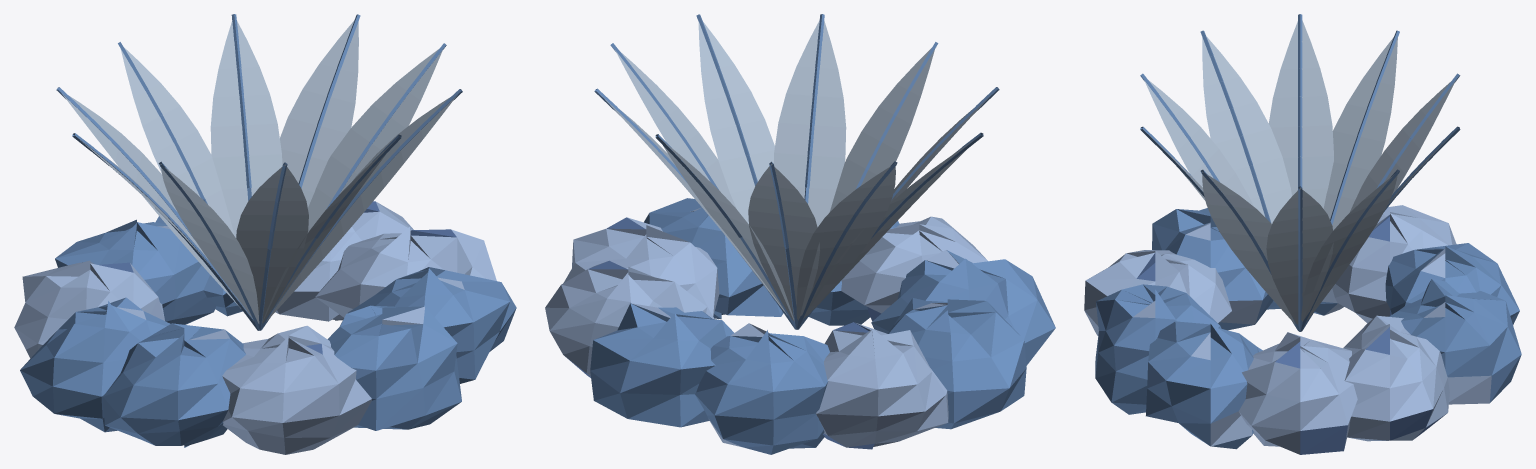
File: indigo.glb
3 renders of one model, left to right at view 1: azimuth 30°, elevation 25°; view 2: azimuth 150°, elevation 25°; view 3: azimuth 270°, elevation 25°, orthographic. The views are drawn at different scales.
Visible parts, largest first — view 1: indigo; view 2: indigo; view 3: indigo.
Part boxes in pixels (box(x1,y1,x2,y2)): indigo: box(14, 14, 516, 454); indigo: box(545, 14, 1055, 454); indigo: box(1084, 14, 1521, 454).
Size of the model in its own units: 1.05 by 0.6607 by 0.9185.
